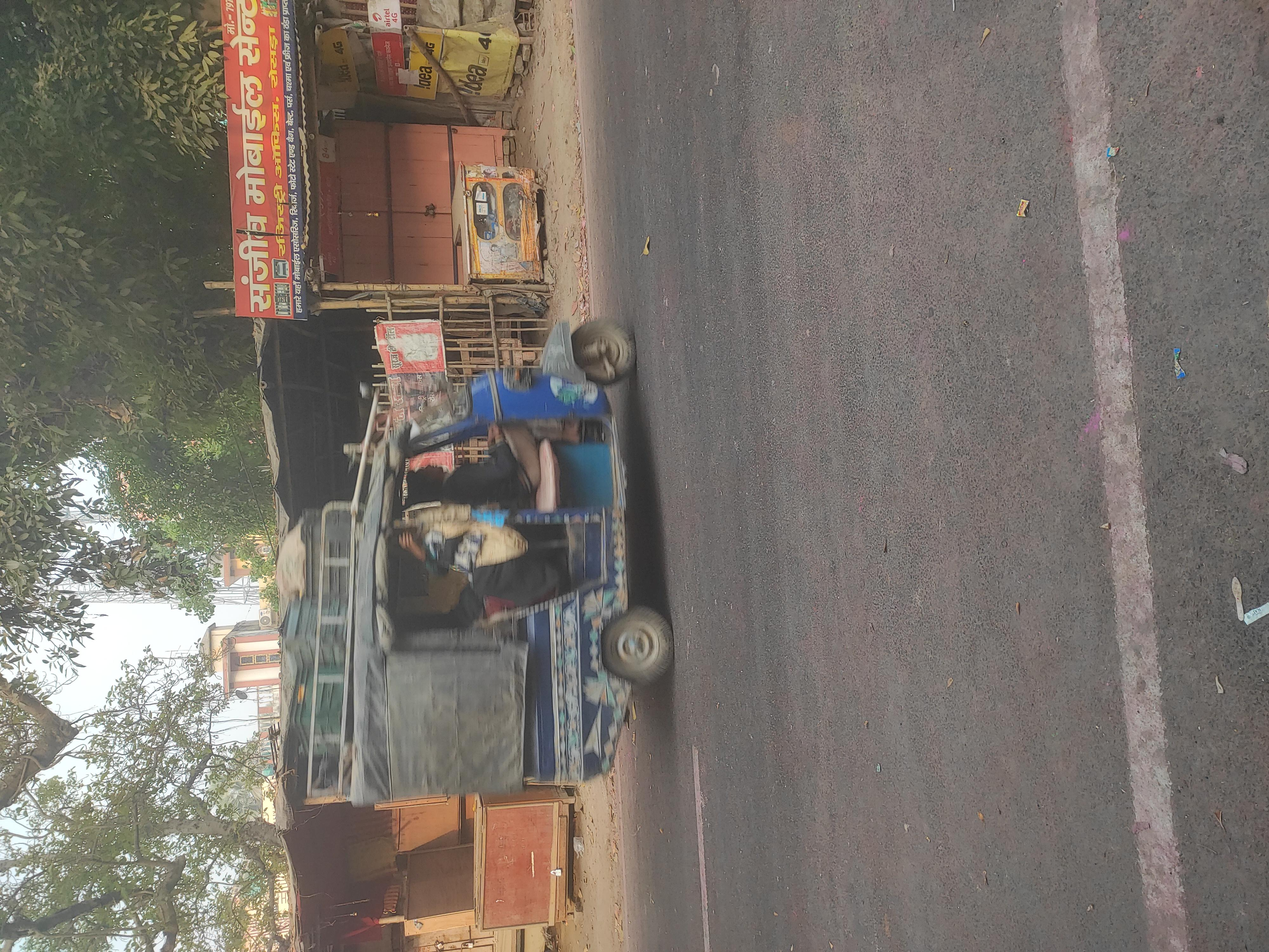Auto: (173, 253, 861, 503)
